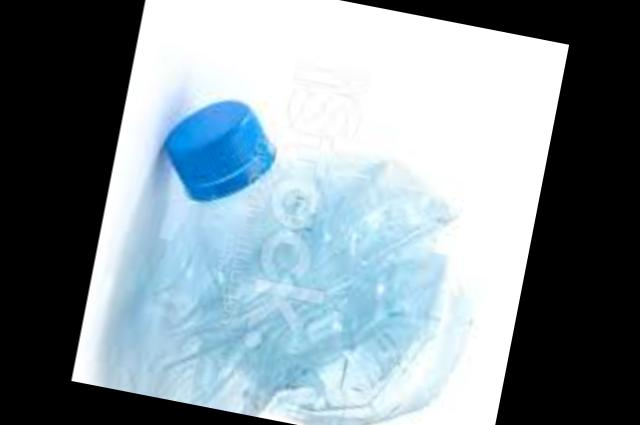plastic: (108, 98, 474, 425)
